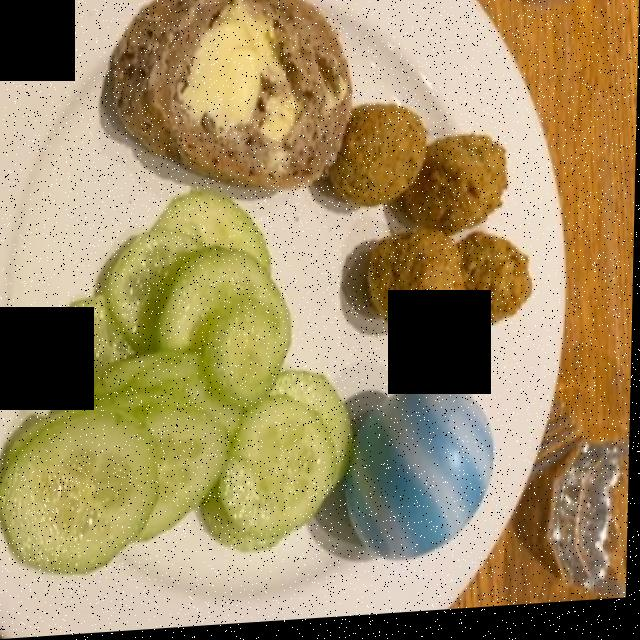bread-wholemeal: (95, 0, 353, 195)
butter: (168, 1, 288, 138)
cucumber: (4, 203, 354, 580)
egg: (344, 385, 506, 565)
falafel-balls: (322, 122, 530, 328)
